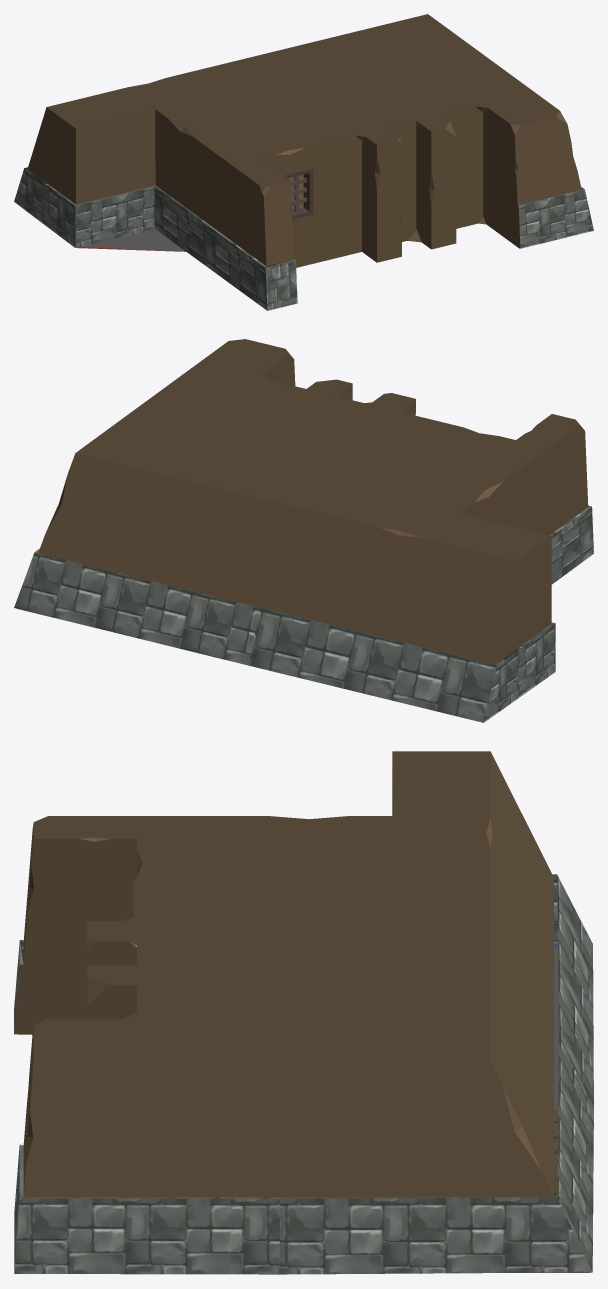
Rendered from SM_Env_Base_03.fbx.
3 views of the same model, one above another, from view 1: azimuth 30°, elevation 25°; view 2: azimuth 150°, elevation 25°; view 3: azimuth 270°, elevation 25° (orthographic). The views are drawn at different scales.
Visible parts, largest first — view 1: SM_Env_Base_03; view 2: SM_Env_Base_03; view 3: SM_Env_Base_03.
Boxes of the visible parts, x1,y1,x2,y2 form: SM_Env_Base_03: (14,14,593,310); SM_Env_Base_03: (14,339,593,722); SM_Env_Base_03: (14,751,593,1274).
Bounding box in the file's own units: 1338 × 370 × 994.
1 material, 1 textured.
